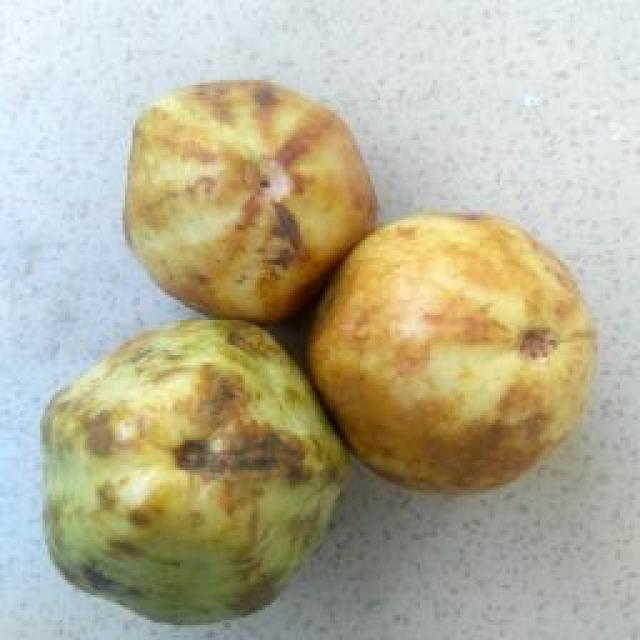Bad_Guava: (42, 320, 349, 622), (129, 81, 376, 321)
